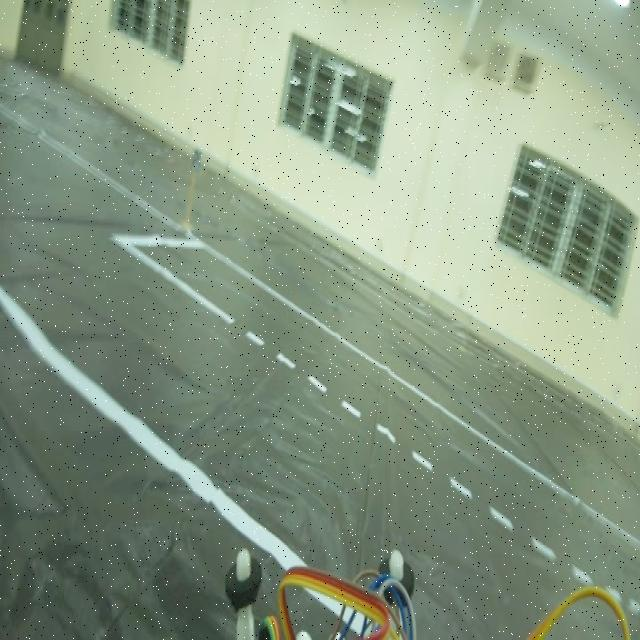highway_exit: (190, 142, 204, 176)
